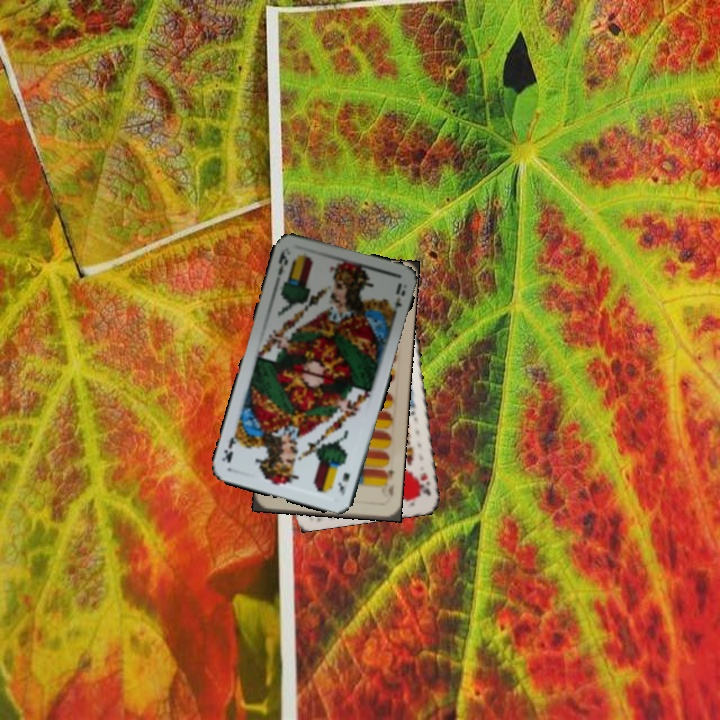E10: (379, 466, 397, 499)
EK: (334, 468, 353, 498), (274, 247, 291, 278)
HK: (414, 468, 433, 499)
